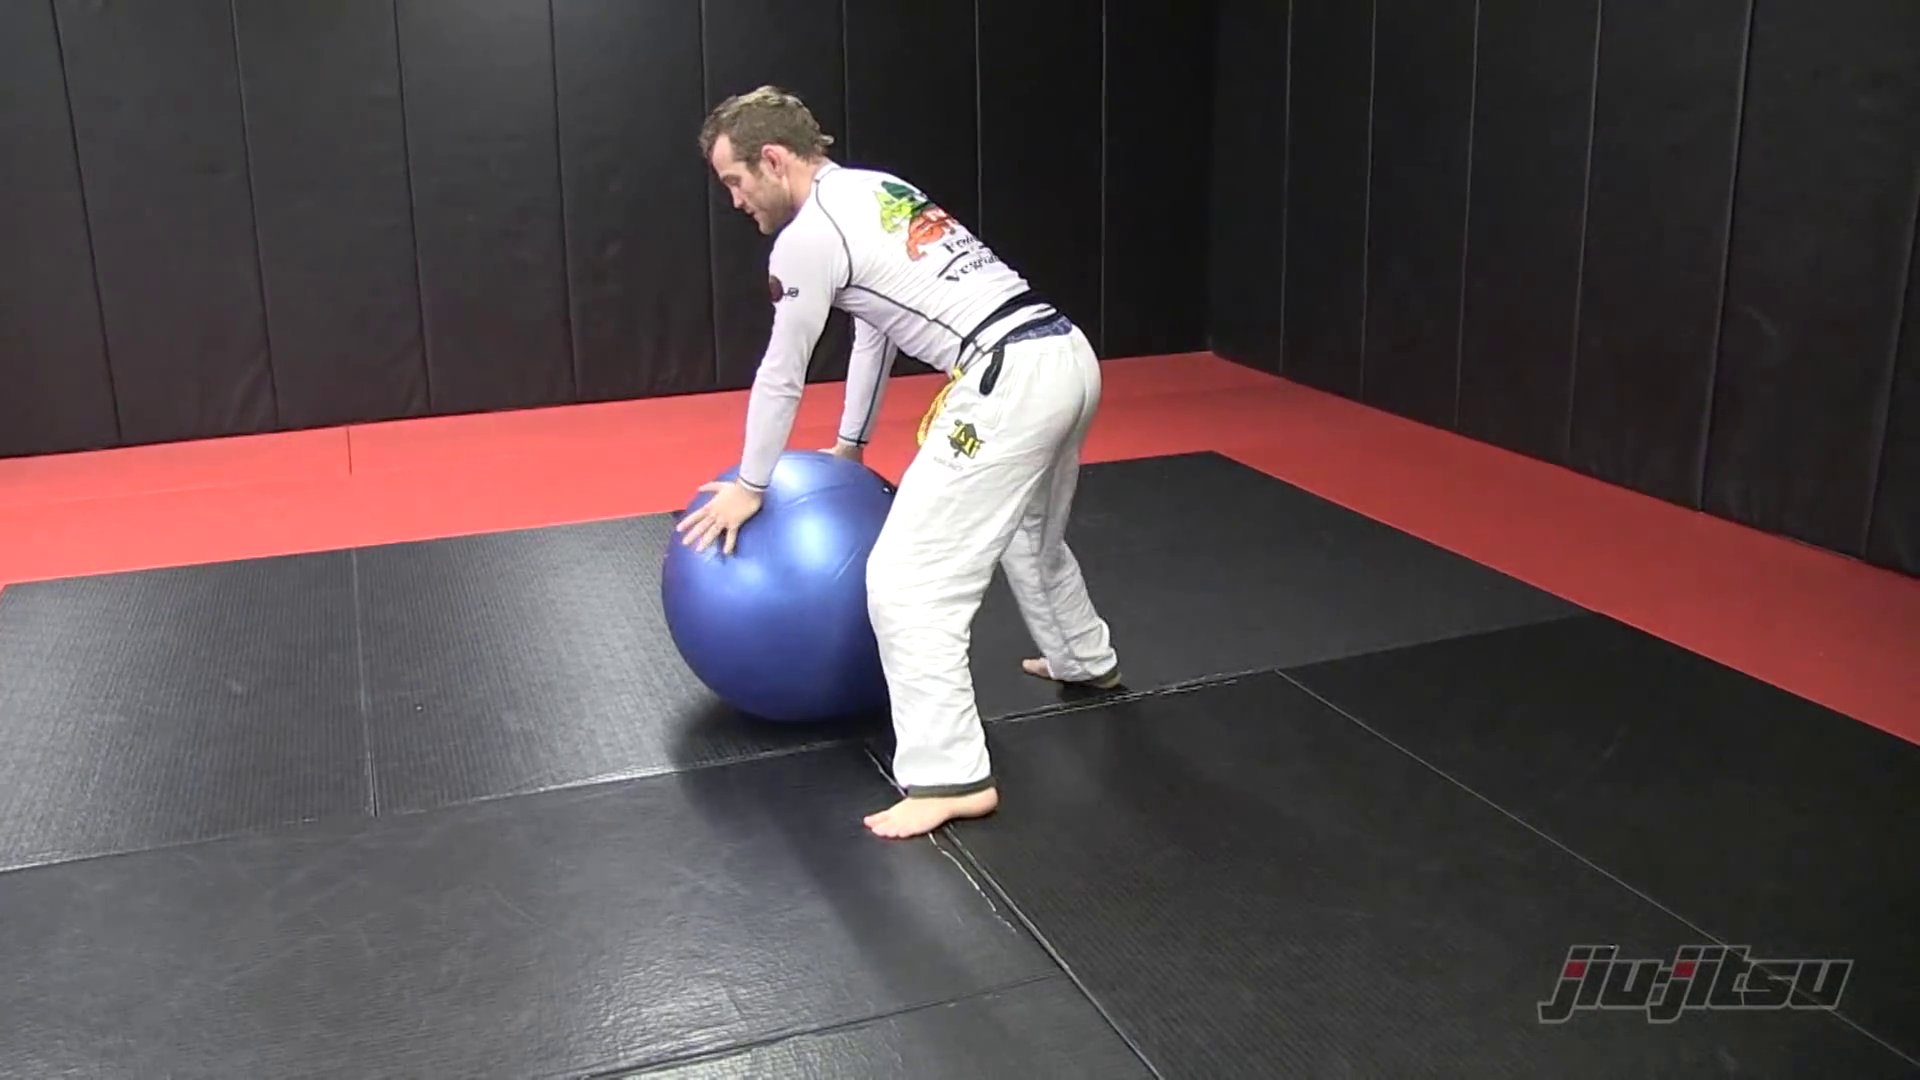yogaball: (646, 443, 942, 754)
